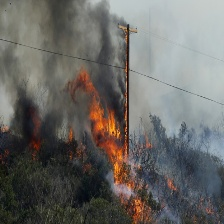fire: (88, 100, 152, 217), (68, 129, 83, 160), (167, 177, 182, 197)
smoke: (1, 1, 134, 125), (160, 91, 224, 168)
